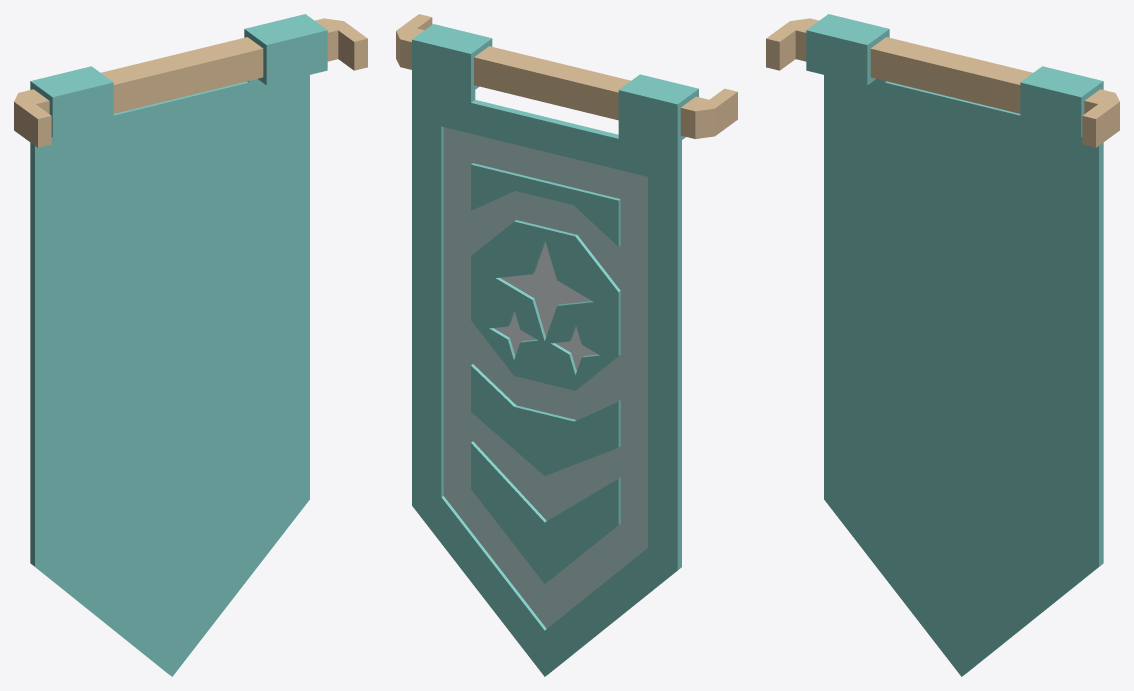
File: Prop_Flag_Stars.glb
3 renders of one model, left to right at view 1: azimuth 30°, elevation 25°; view 2: azimuth 150°, elevation 25°; view 3: azimuth 330°, elevation 25°, orthographic. The views are drawn at different scales.
Visible parts, largest first — view 1: Prop_Flag_Stars; view 2: Prop_Flag_Stars; view 3: Prop_Flag_Stars.
Part boxes in pixels (x1,y1,x2,y2): Prop_Flag_Stars: [14, 14, 367, 676]; Prop_Flag_Stars: [396, 14, 737, 676]; Prop_Flag_Stars: [766, 14, 1119, 676].
Bounding box in the file's own units: 0.54 × 0.979 × 0.099.
